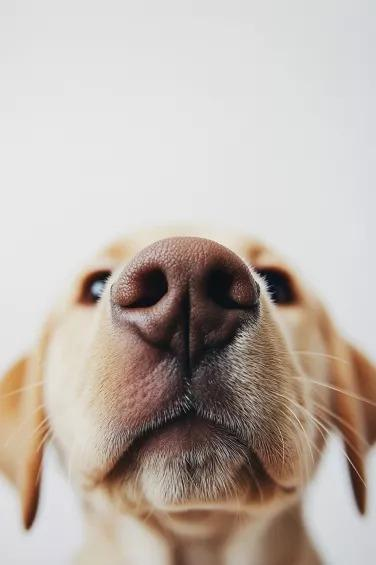adult_dog: (1, 224, 376, 565)
